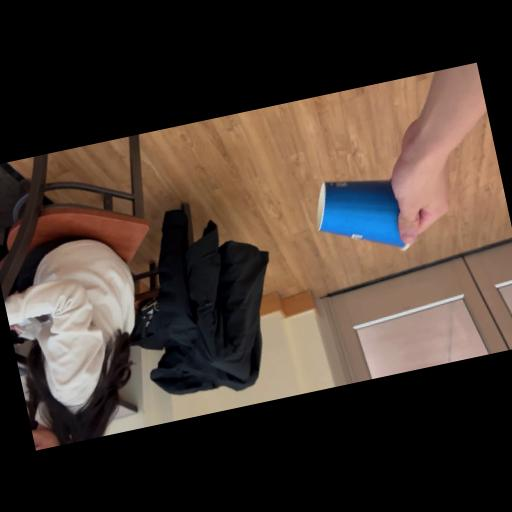lp_paper_cup: (305, 164, 415, 268)
